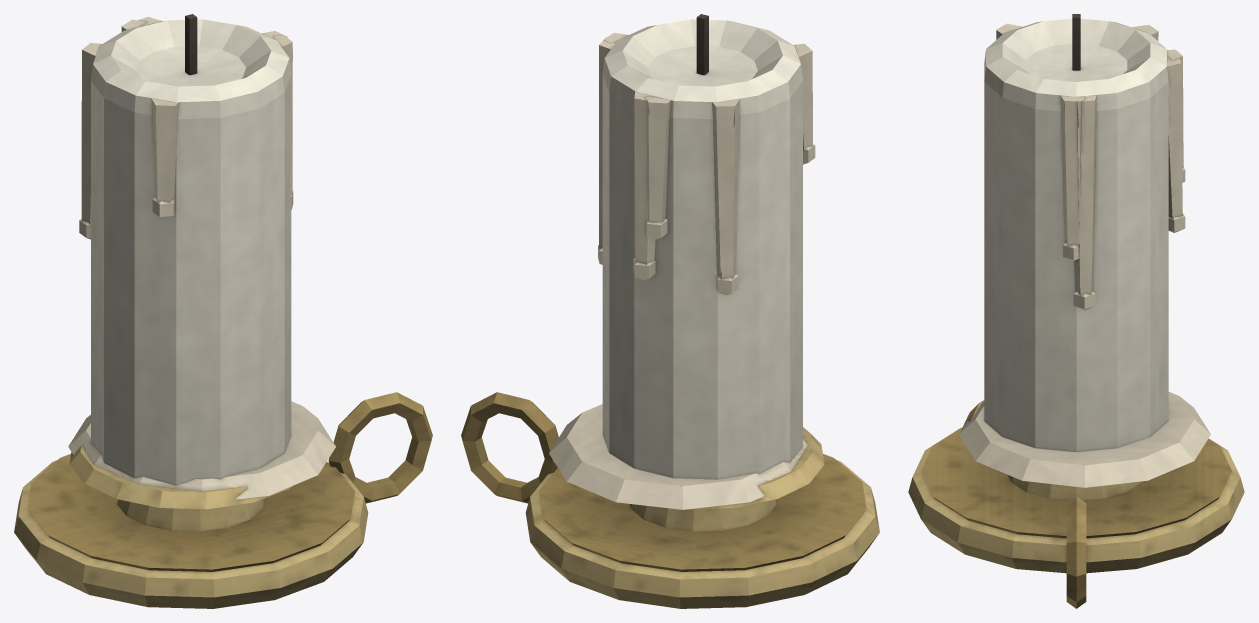
Rendered from candle_tex.glb.
3 views of the same model, side by side, from view 1: azimuth 30°, elevation 25°; view 2: azimuth 150°, elevation 25°; view 3: azimuth 270°, elevation 25° (orthographic). The views are drawn at different scales.
Parts seen in each view (by area): view 1: candle; view 2: candle; view 3: candle.
Boxes of the visible parts, <box> form: candle: <box>14,14,432,608</box>; candle: <box>461,14,879,608</box>; candle: <box>908,14,1244,608</box>.
Size of the model in its own units: 0.205 by 0.2617 by 0.16.
Materials: 5 (5 with a texture image).
